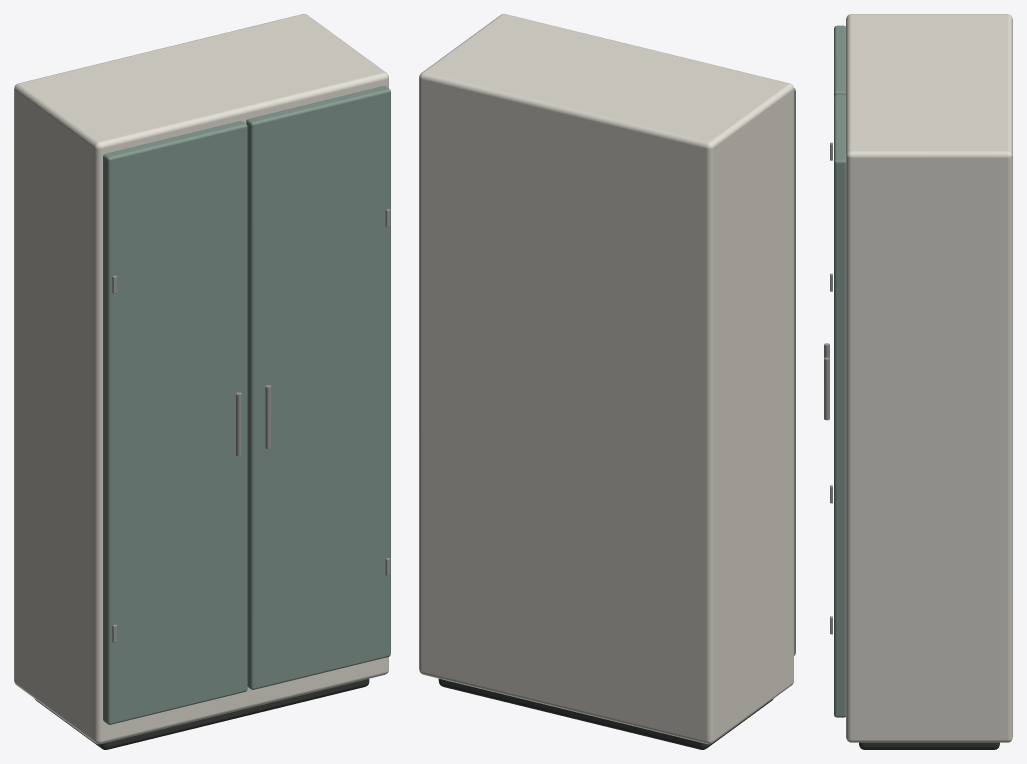
File: storageCabinet.glb
3 views of the same model, side by side, from view 1: azimuth 30°, elevation 25°; view 2: azimuth 150°, elevation 25°; view 3: azimuth 270°, elevation 25° (orthographic).
Parts seen in each view (by area): view 1: Inset door (×2), Cabinet carcass, Recessed plinth; view 2: Cabinet carcass, Recessed plinth, Inset door; view 3: Cabinet carcass, Inset door (×2), Recessed plinth, Vertical pull.
Boxes of the visible parts, left/top/right/bottom form: Inset door (×2): left=103, top=86, right=390, bottom=724; Cabinet carcass: left=14, top=14, right=388, bottom=744; Recessed plinth: left=35, top=679, right=369, bottom=749; Cabinet carcass: left=419, top=14, right=793, bottom=744; Recessed plinth: left=438, top=678, right=773, bottom=749; Inset door: left=794, top=88, right=795, bottom=655; Cabinet carcass: left=846, top=14, right=1012, bottom=742; Inset door (×2): left=834, top=25, right=845, bottom=717; Recessed plinth: left=859, top=742, right=999, bottom=749; Vertical pull: left=824, top=357, right=829, bottom=420.
Size of the model in its own units: 0.9 by 1.8 by 0.509.
